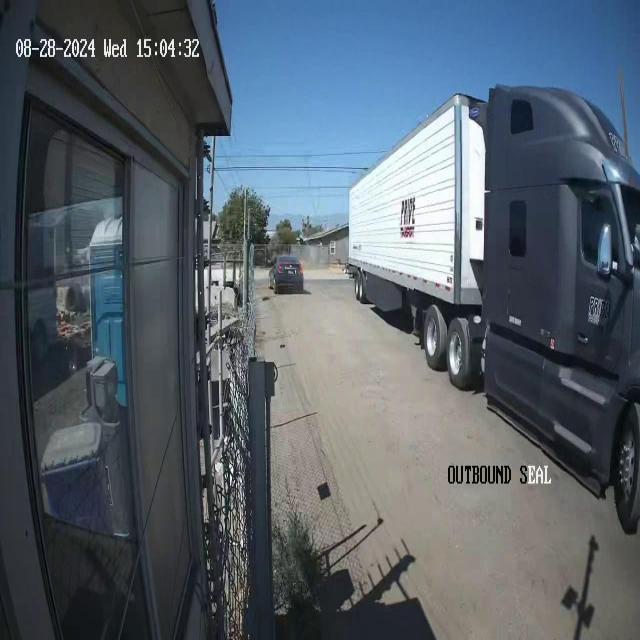TRUCK_IN: (347, 78, 639, 535)
